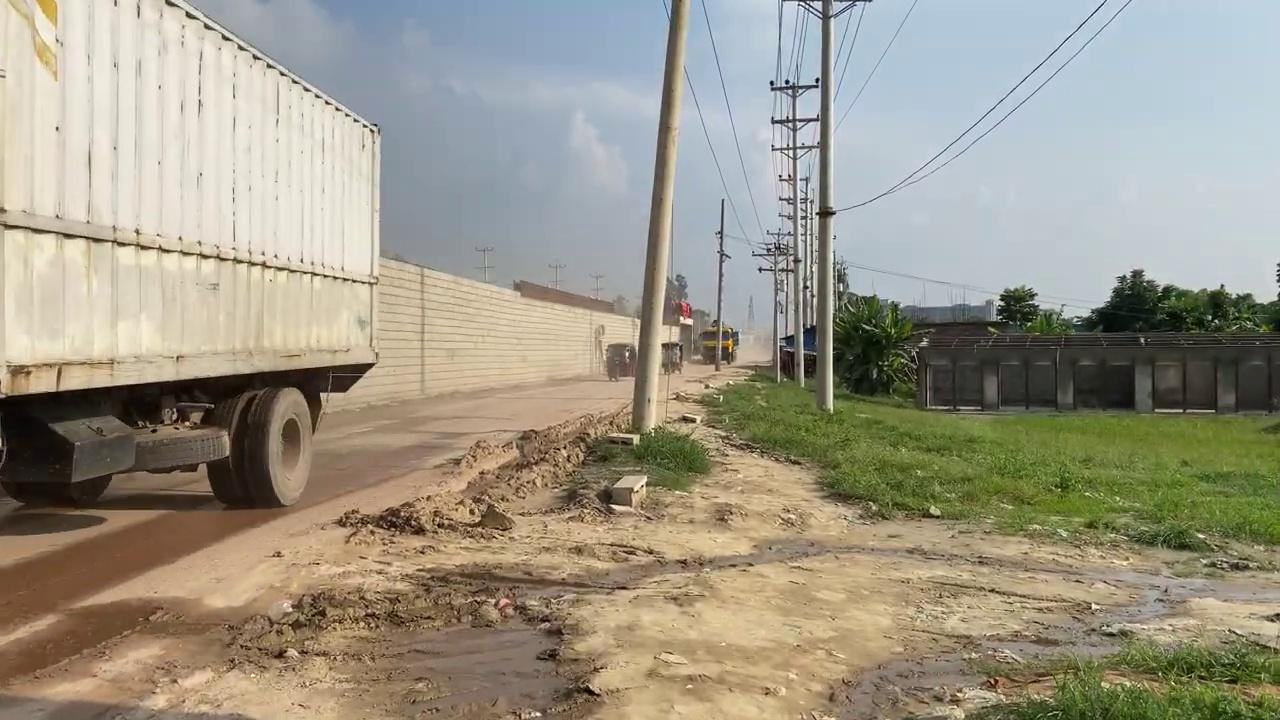Muddy road: (1, 356, 1277, 717)
Obstacle: (610, 472, 647, 508)
Pole: (630, 0, 690, 436), (814, 1, 835, 412)
Traffic-sign: (830, 291, 928, 396), (995, 283, 1040, 332)
Tree: (1, 0, 383, 509), (698, 327, 738, 365)
Upstairs: (353, 254, 684, 407)
